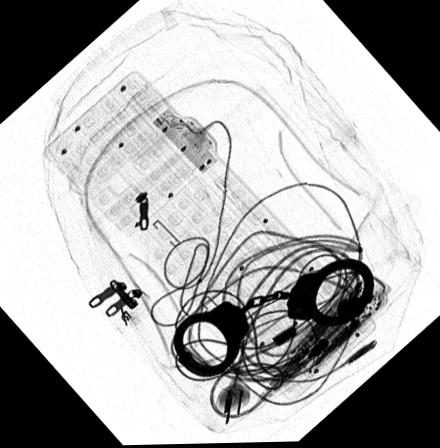HandCuffs: (173, 260, 373, 378)
